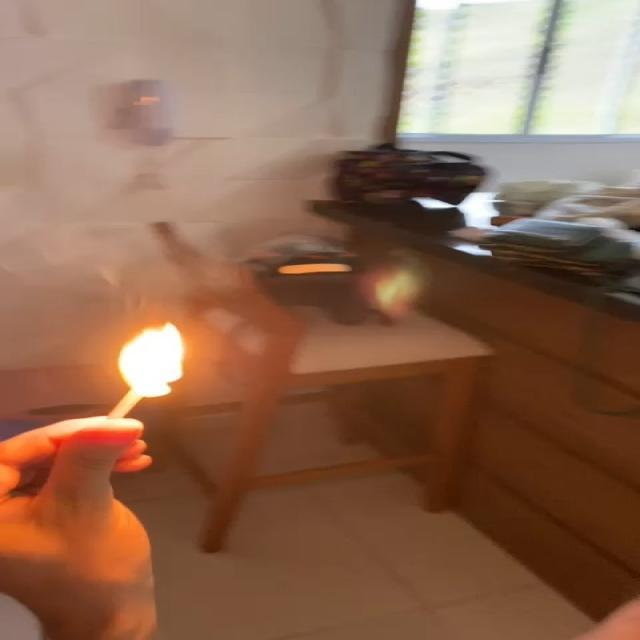fire: (113, 320, 187, 407)
